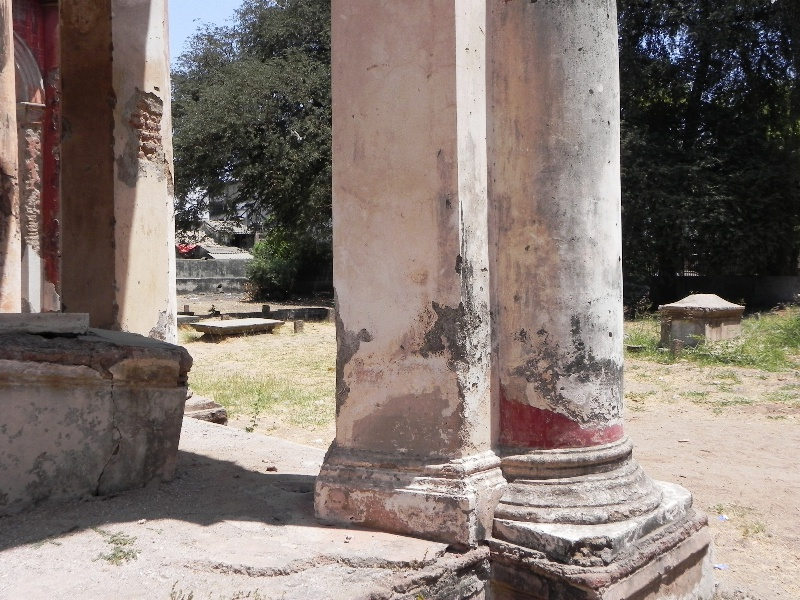Exposed Bricks: (130, 97, 163, 163)
Spalling: (331, 273, 379, 422), (417, 294, 483, 372)
